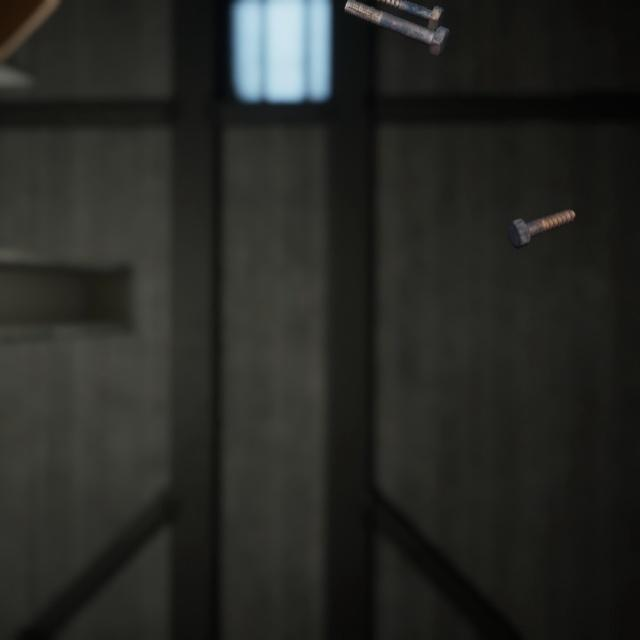bolt: (339, 0, 454, 52), (502, 189, 580, 237), (385, 0, 448, 27)
